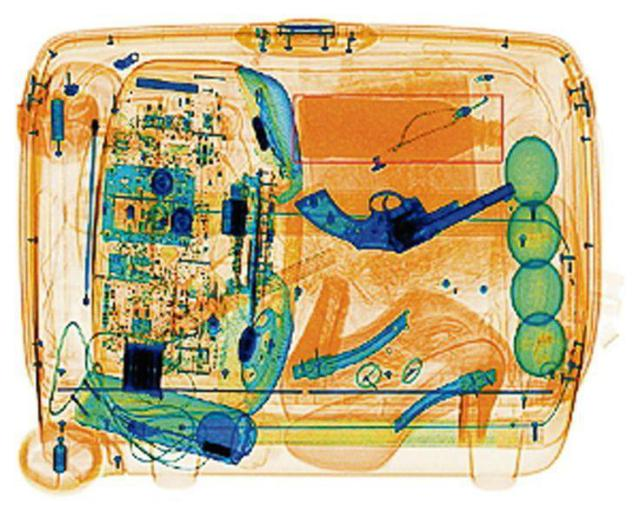Gun: (286, 177, 516, 256)
